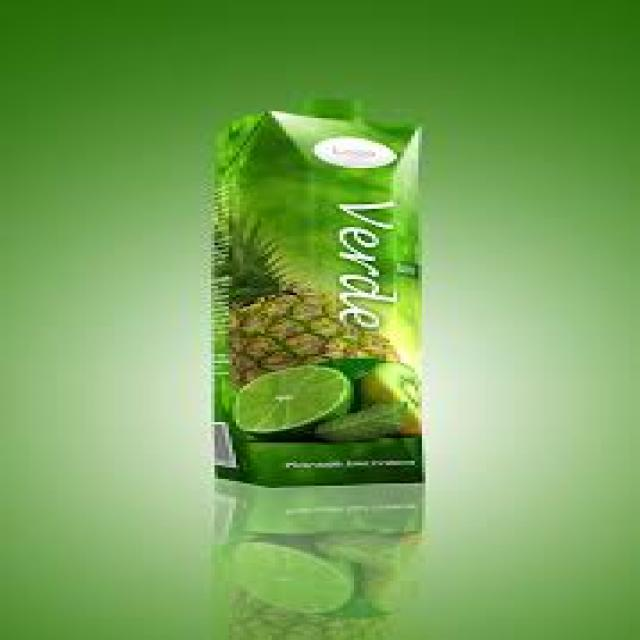non_white_jug: (166, 85, 457, 508)
